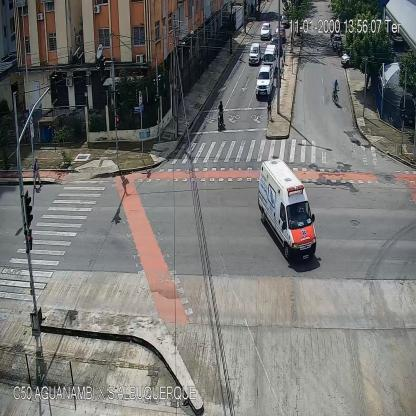bicycle: (332, 78, 339, 106)
car: (259, 160, 318, 258), (261, 44, 278, 73), (248, 43, 262, 66), (270, 34, 283, 57), (260, 20, 272, 43), (274, 24, 286, 44), (332, 34, 342, 48), (281, 14, 289, 28)
motorbike: (216, 100, 225, 133), (336, 41, 340, 54)
person: (33, 156, 43, 188), (266, 96, 273, 122), (282, 44, 286, 65), (281, 59, 284, 80), (252, 3, 254, 16), (250, 2, 252, 14)
